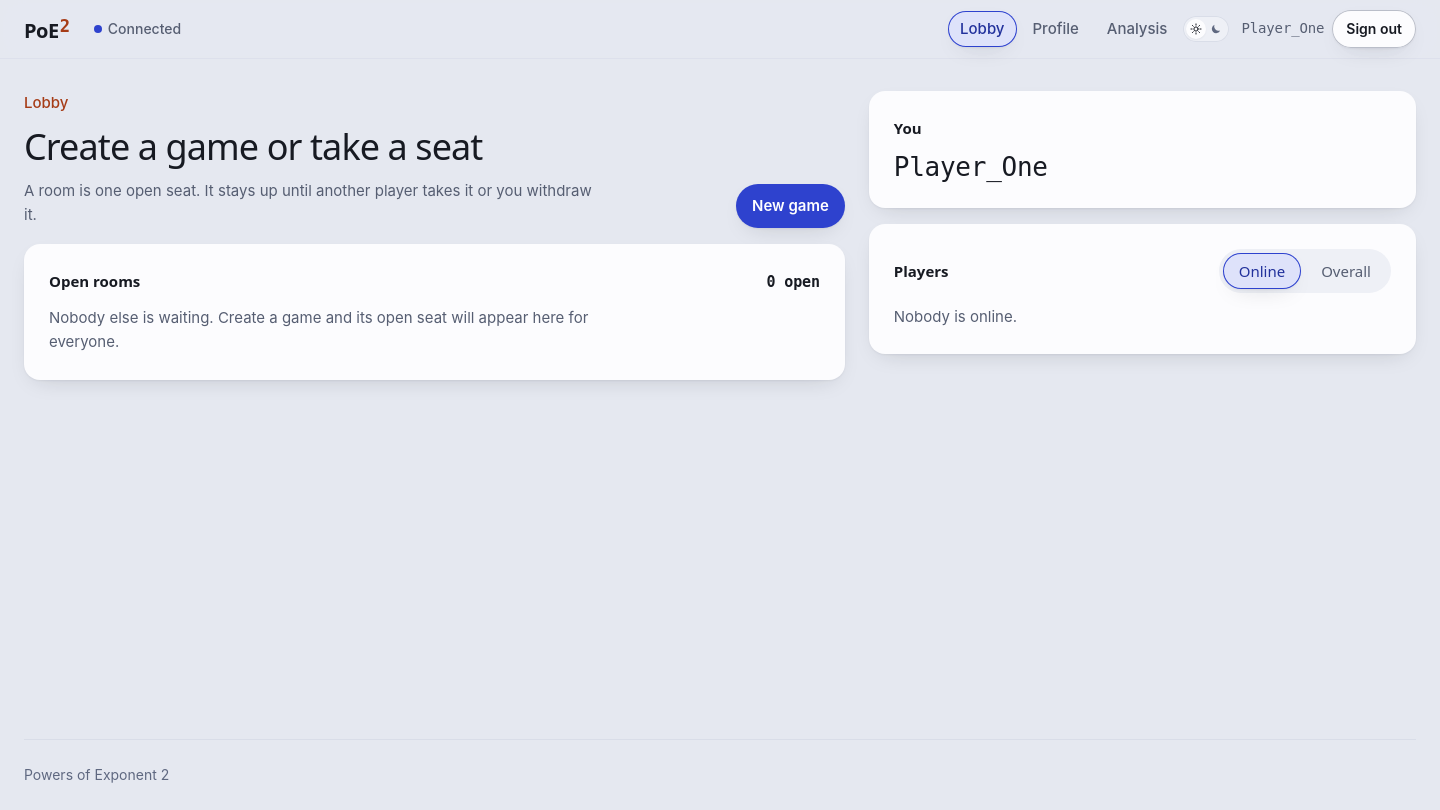
Test: lobby player directory › distinguishes an empty Online filter from an empty directory
This screenshot has width=1440, height=810.
Expected: the text "Nobody is online." is shown, [894,307,1017,326]
Click the radio button labelled "Overall": {"x": 1346, "y": 271} [1321,261,1371,281]
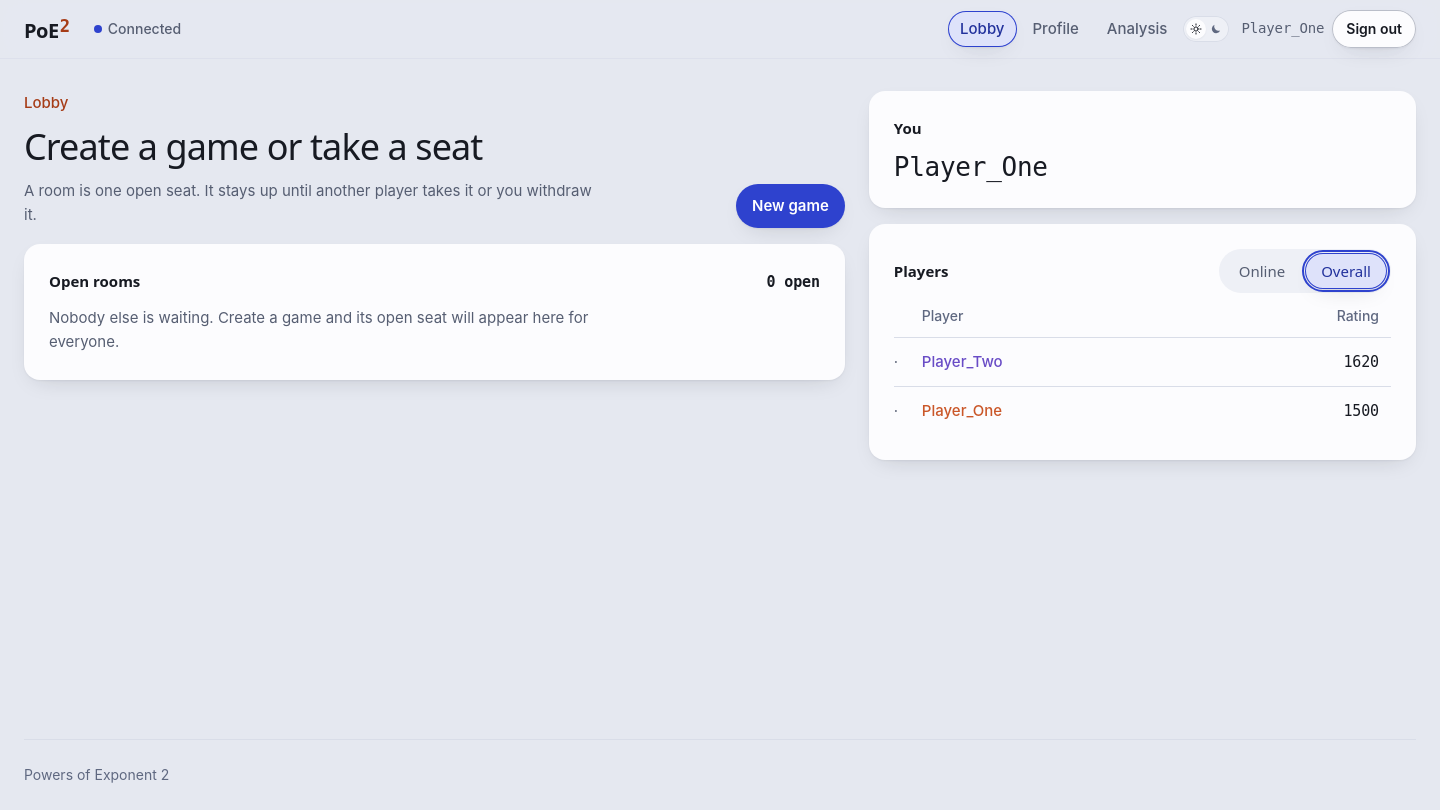
Now the link "Player_Two" is shown, box [922,352,1003,371]
